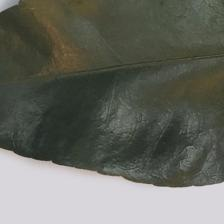healthy: (7, 3, 224, 148)
